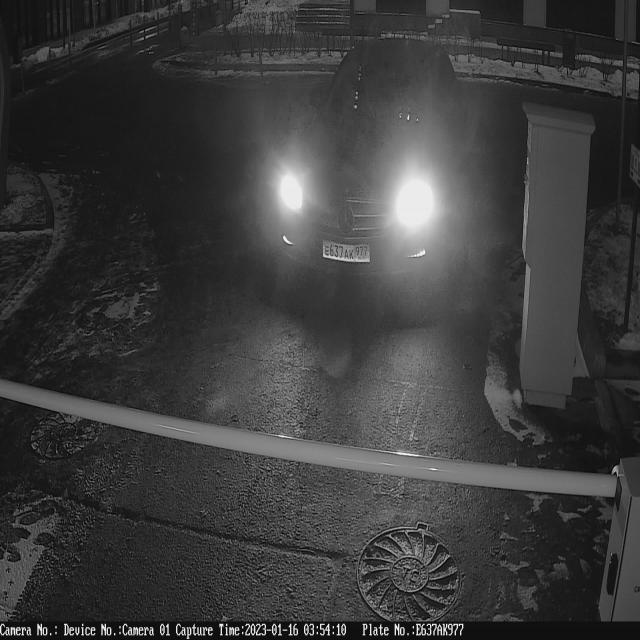car-plate-numbers: (321, 236, 376, 270)
